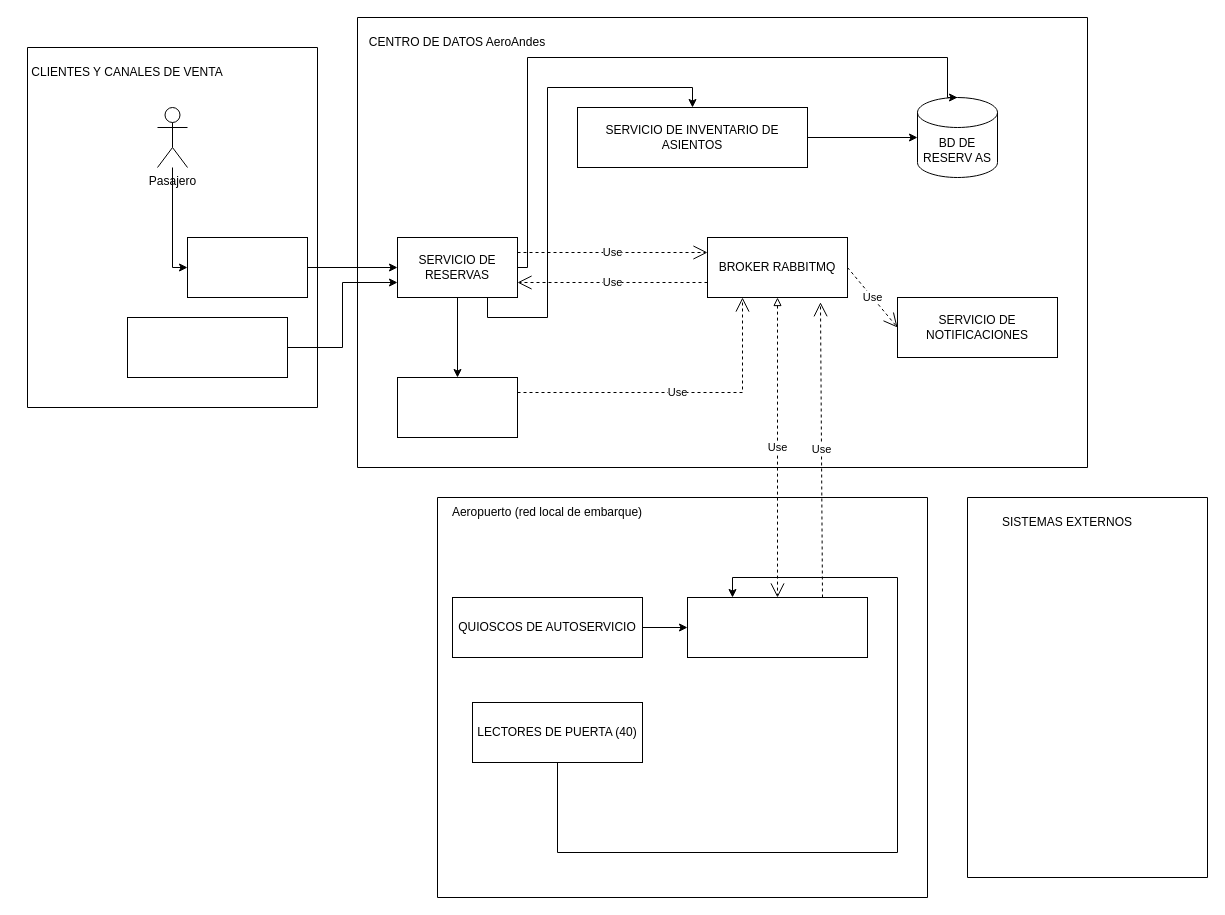
Image size: 1225x915. Some labels were removed from this diagram. The box of each missing label's shape, as (x1, y1, x2, y2) in pixels:
AGENCIA DE VIAJES: (126, 316, 288, 378)
CLIENTE: (186, 236, 308, 298)
SERVICIO DE PAGOS: (396, 376, 518, 438)
SERVIDOR DE EMBARQUE: (686, 596, 868, 658)
